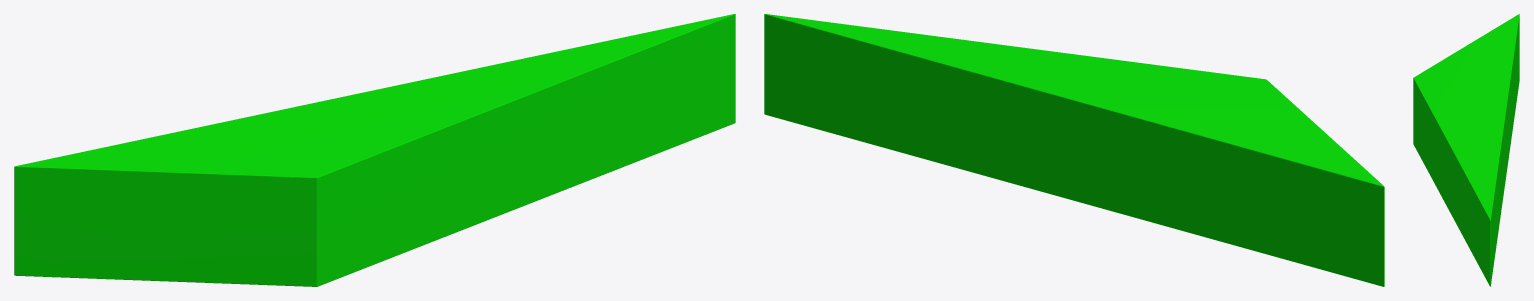
File: Obstacle_07.fbx
3 renders of one model, left to right at view 1: azimuth 30°, elevation 25°; view 2: azimuth 150°, elevation 25°; view 3: azimuth 270°, elevation 25°, orthographic. The views are drawn at different scales.
Parts seen in each view (by area): view 1: Obstacle_07; view 2: Obstacle_07; view 3: Obstacle_07.
Part boxes in pixels (box(x1,y1,x2,y2)): Obstacle_07: box(14, 14, 735, 286); Obstacle_07: box(764, 14, 1384, 286); Obstacle_07: box(1413, 14, 1519, 286).
Bounding box in the file's own units: 6.66 × 1 × 1.45.
